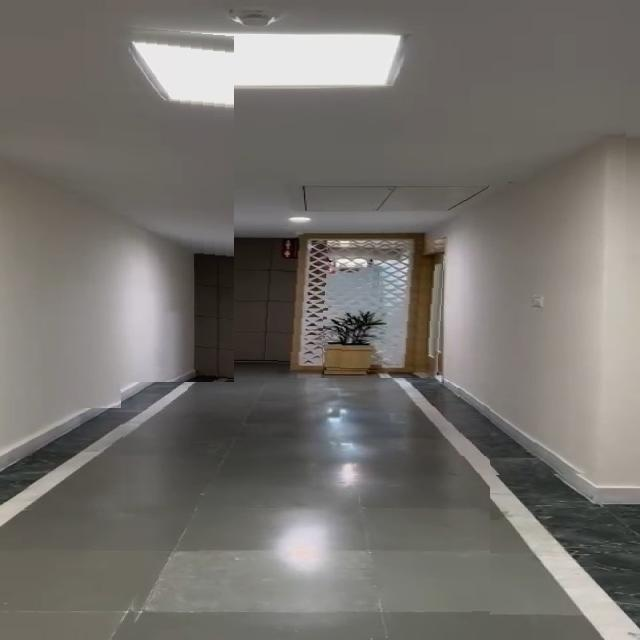door: (217, 240, 445, 378)
floor: (120, 382, 490, 640)
furniture: (323, 308, 388, 371)
wall: (16, 17, 234, 408), (464, 17, 626, 476)
